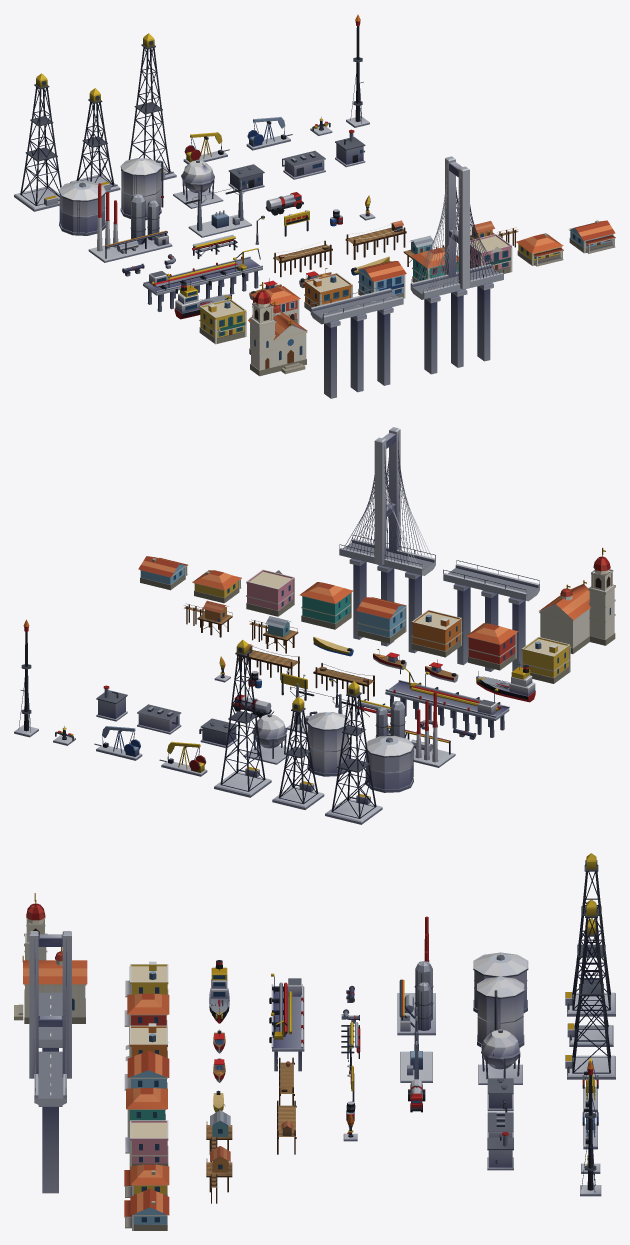
The model's file is zulia_kit.glb.
3 views of the same model, one above another, from view 1: azimuth 30°, elevation 25°; view 2: azimuth 150°, elevation 25°; view 3: azimuth 270°, elevation 25° (orthographic). The views are drawn at different scales.
Parts seen in each view (by area): view 1: puente_lago_torre, puente_lago_recto, iglesia_zulia, planta_destilacion, torre_petroleo_a, muelle_petrolero, tanque_crudo_a, torre_petroleo_c, tanque_crudo_b, casa_zulia_a, torre_petroleo_b, tanque_esfera (+19 smaller); view 2: puente_lago_torre, iglesia_zulia, puente_lago_recto, torre_petroleo_a, torre_petroleo_c, muelle_petrolero, tanque_crudo_a, planta_destilacion, tanque_crudo_b, torre_petroleo_b, casa_zulia_e, casa_zulia_c (+18 smaller); view 3: puente_lago_torre, iglesia_zulia, torre_petroleo_c, tanque_crudo_b, muelle_petrolero, torre_petroleo_a, planta_destilacion, tanque_esfera, casa_zulia_f, torre_petroleo_b, casa_zulia_baja_b, tanque_crudo_a (+17 smaller).
Part boxes in pixels (x1,y1,x2,y2): puente_lago_torre: (410, 156, 503, 374); puente_lago_recto: (310, 284, 403, 398); iglesia_zulia: (248, 282, 307, 376); planta_destilacion: (88, 183, 172, 262); torre_petroleo_a: (14, 73, 61, 211); muelle_petrolero: (143, 248, 262, 311); tanque_crudo_a: (58, 181, 106, 235); torre_petroleo_c: (121, 33, 176, 180); tanque_crudo_b: (120, 158, 163, 220); casa_zulia_a: (199, 299, 246, 344); torre_petroleo_b: (70, 88, 120, 192); tanque_esfera: (173, 159, 223, 208); puente_lago_torre: (339, 427, 435, 653); iglesia_zulia: (539, 547, 615, 653); puente_lago_recto: (443, 560, 539, 671); torre_petroleo_a: (325, 681, 382, 824); torre_petroleo_c: (214, 640, 271, 797); muelle_petrolero: (385, 664, 509, 737); tanque_crudo_a: (365, 735, 414, 792); planta_destilacion: (375, 691, 455, 767); tanque_crudo_b: (307, 711, 349, 776); torre_petroleo_b: (272, 696, 324, 809); casa_zulia_e: (299, 582, 353, 629); casa_zulia_c: (411, 610, 462, 657); puente_lago_torre: (29, 931, 71, 1193); iglesia_zulia: (14, 893, 87, 1023); torre_petroleo_c: (565, 899, 615, 1079); tanque_crudo_b: (477, 976, 524, 1047); muelle_petrolero: (269, 973, 304, 1071); torre_petroleo_a: (565, 853, 615, 1016); planta_destilacion: (397, 916, 435, 1035); tanque_esfera: (478, 1029, 522, 1084); casa_zulia_f: (125, 1120, 168, 1169); torre_petroleo_b: (567, 918, 613, 1046); casa_zulia_baja_b: (124, 1188, 169, 1230); tanque_crudo_a: (473, 952, 528, 1013).
Bounding box in the file's own units: 120 × 58 × 130.
